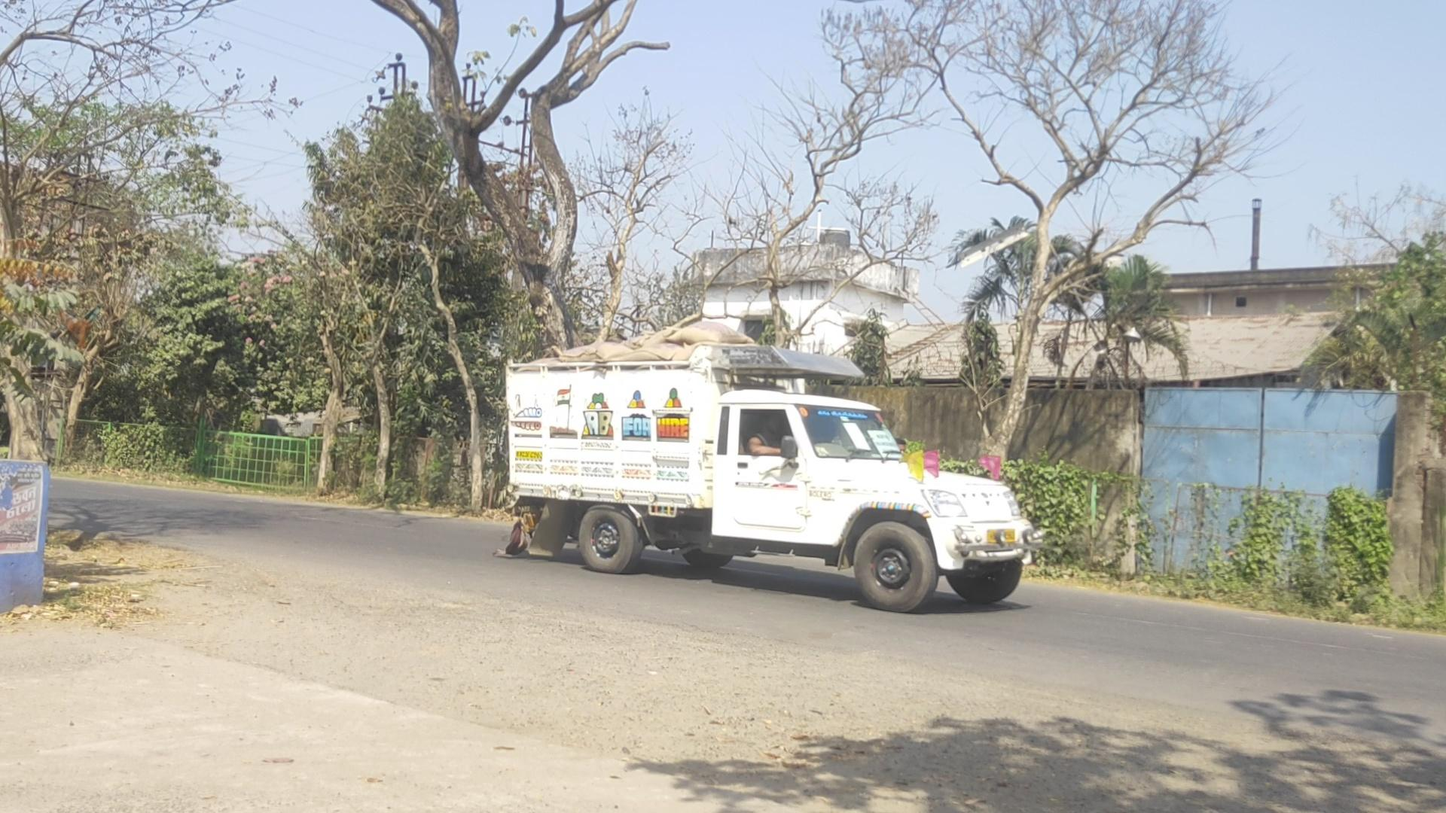van: (505, 320, 1033, 614)
